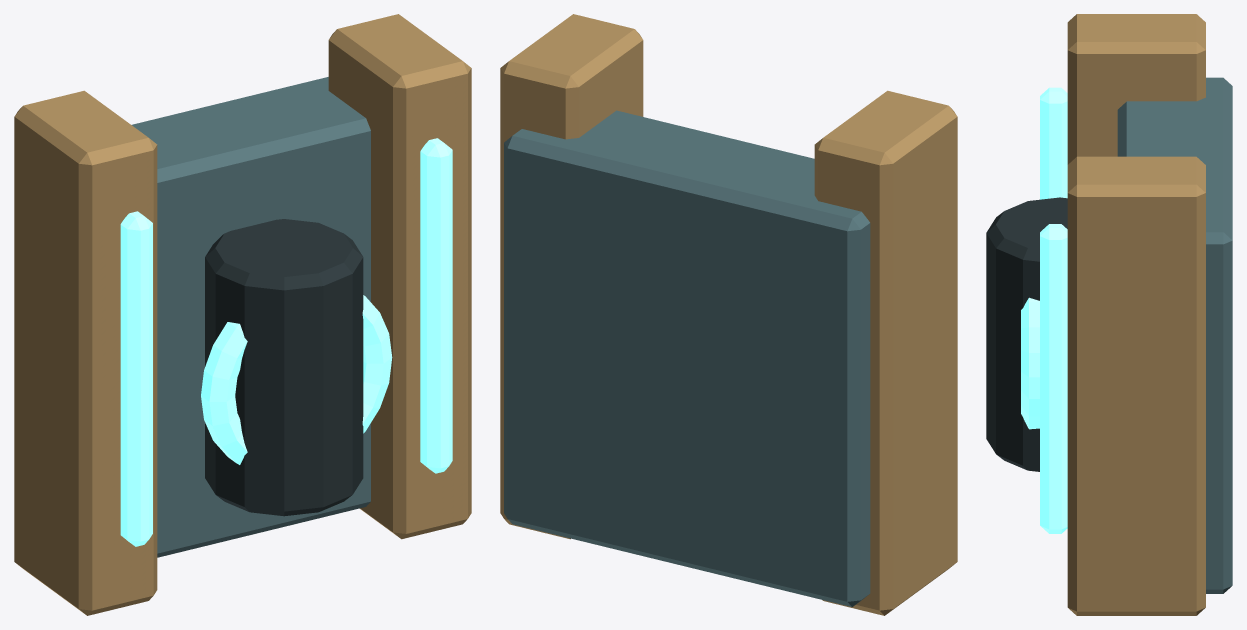
The model's file is kiro_tidal_pack.glb.
3 renders of one model, left to right at view 1: azimuth 30°, elevation 25°; view 2: azimuth 150°, elevation 25°; view 3: azimuth 270°, elevation 25°, orthographic. The views are drawn at different scales.
Visible parts, largest first — view 1: kiro_tidal_pack_surfaces; view 2: kiro_tidal_pack_surfaces; view 3: kiro_tidal_pack_surfaces.
Boxes of the visible parts, x1,y1,x2,y2 form: kiro_tidal_pack_surfaces: [14, 14, 471, 615]; kiro_tidal_pack_surfaces: [500, 14, 957, 615]; kiro_tidal_pack_surfaces: [986, 14, 1232, 615].
Size of the model in its own units: 0.55 by 0.62 by 0.321.
